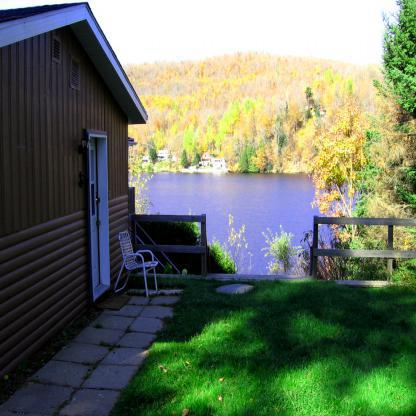door: (89, 150, 99, 284)
